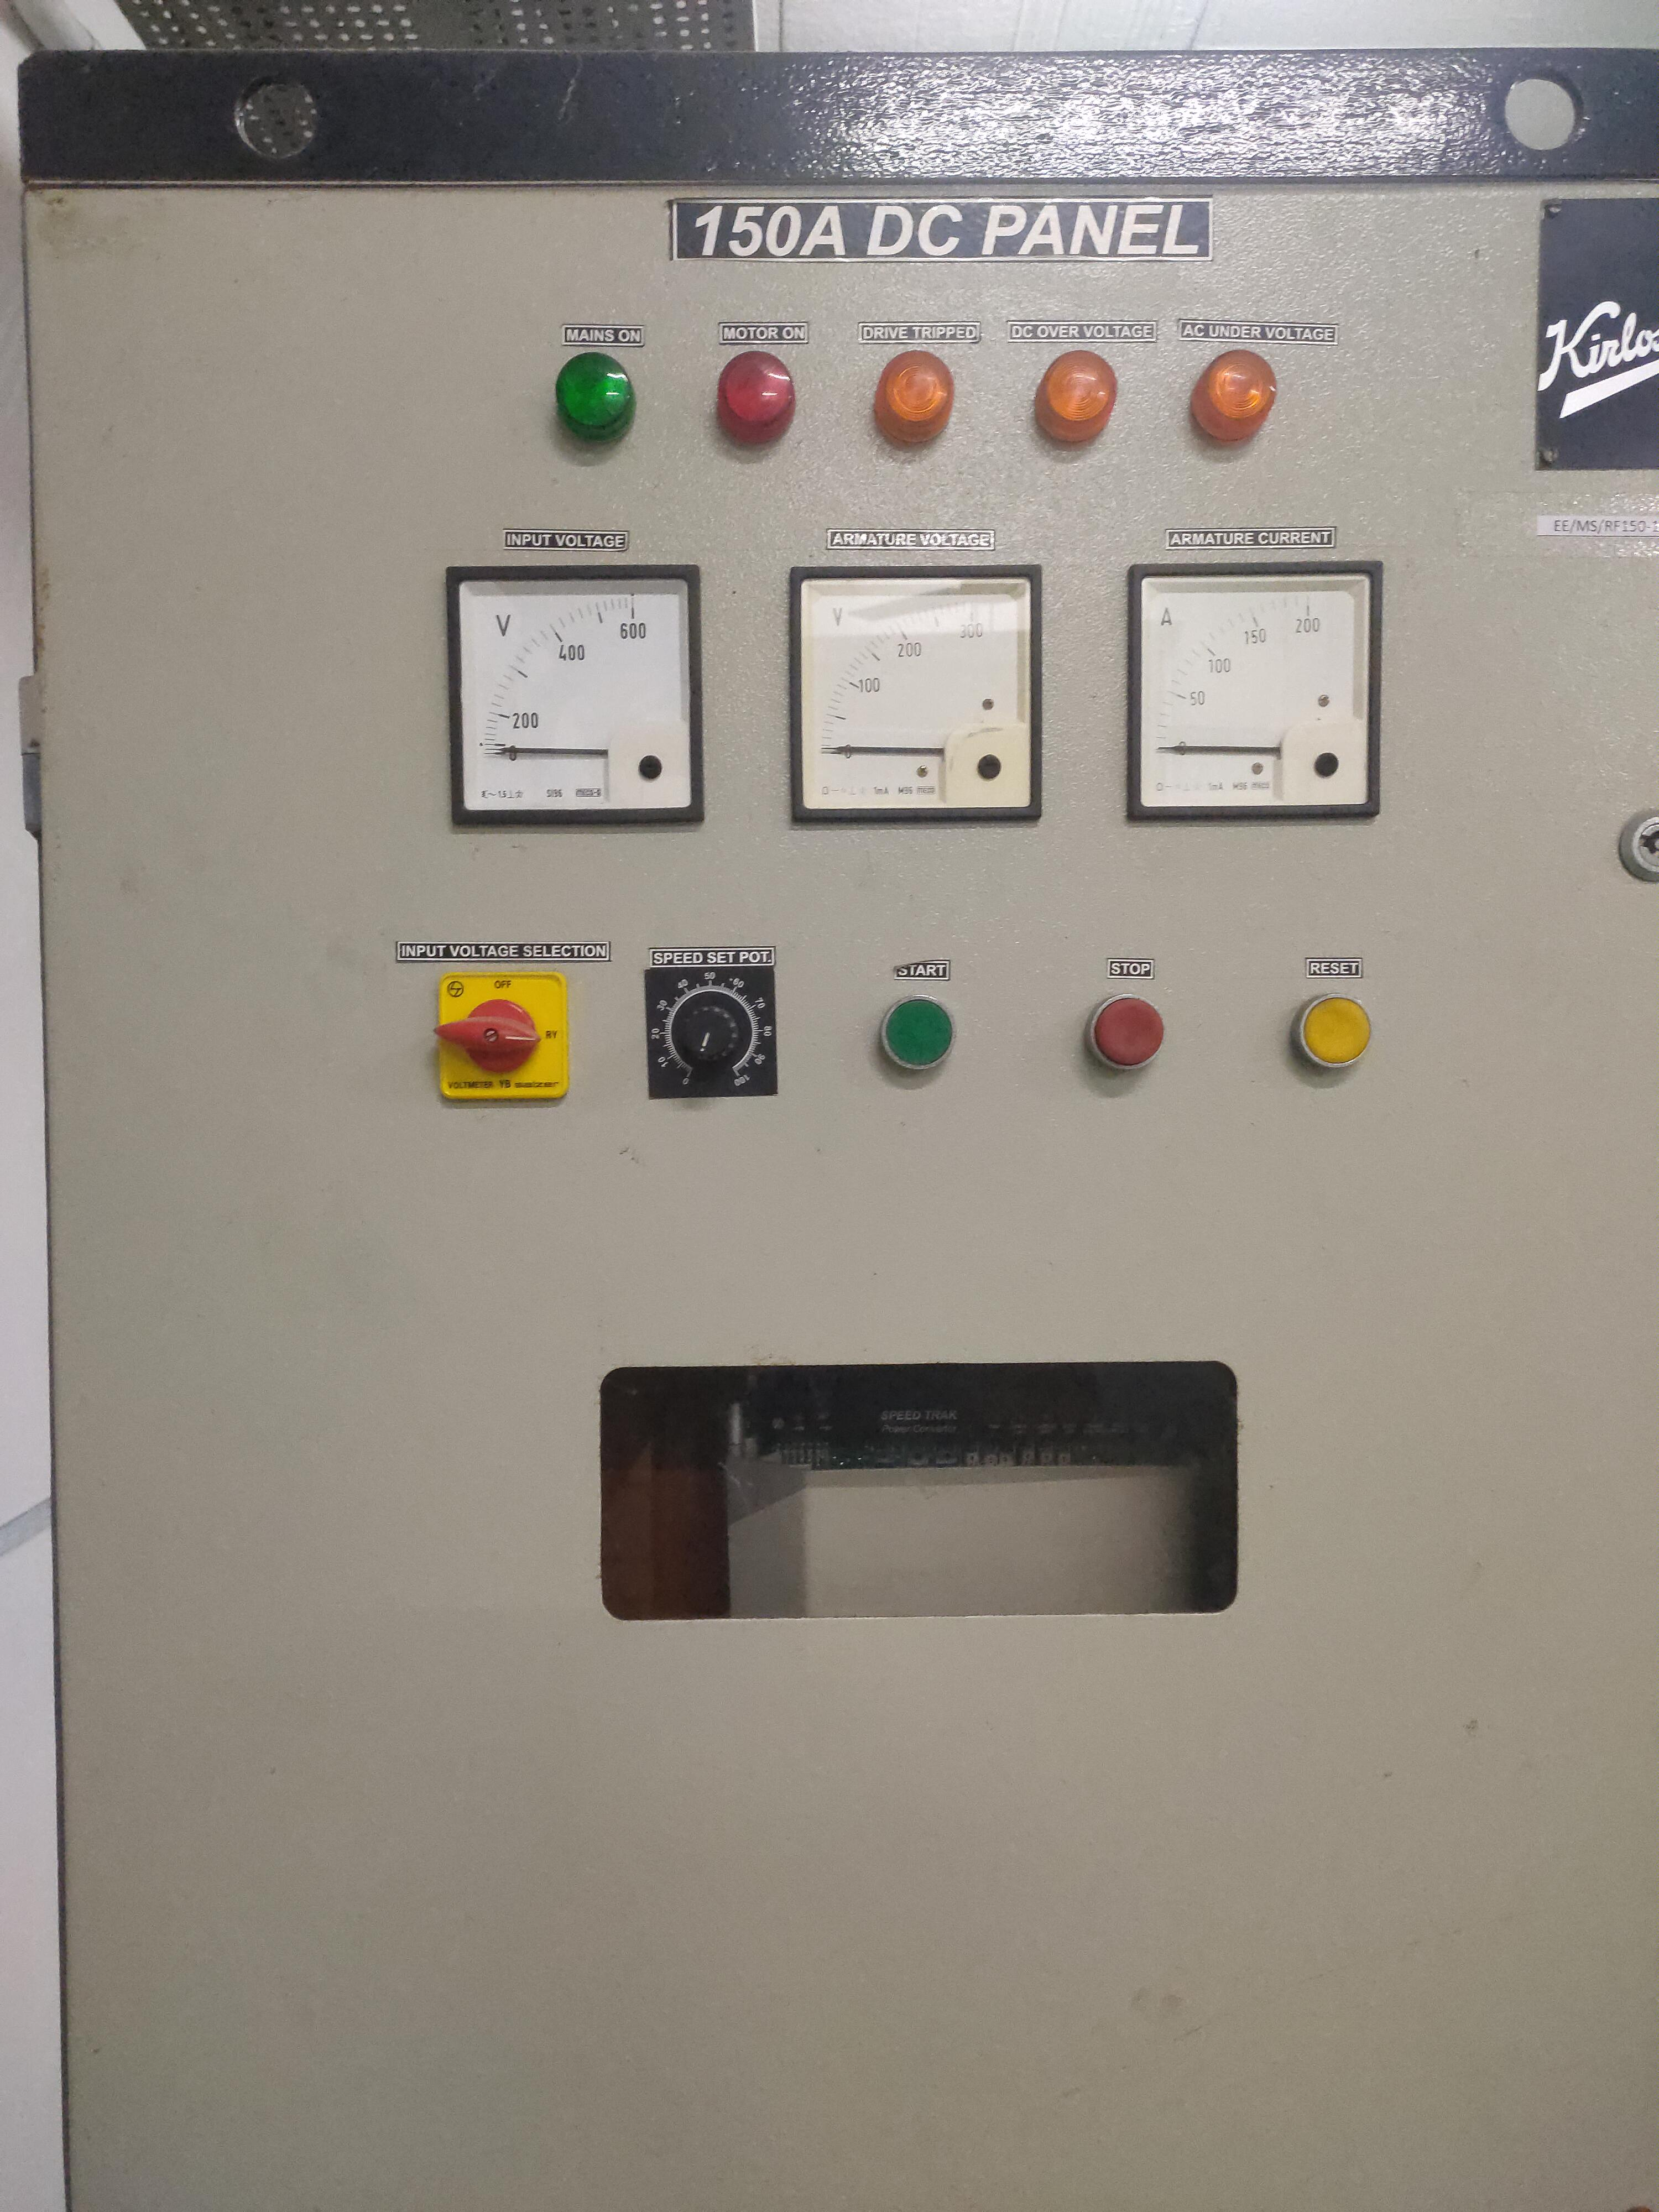Light Indications: (530, 277, 1340, 502)
